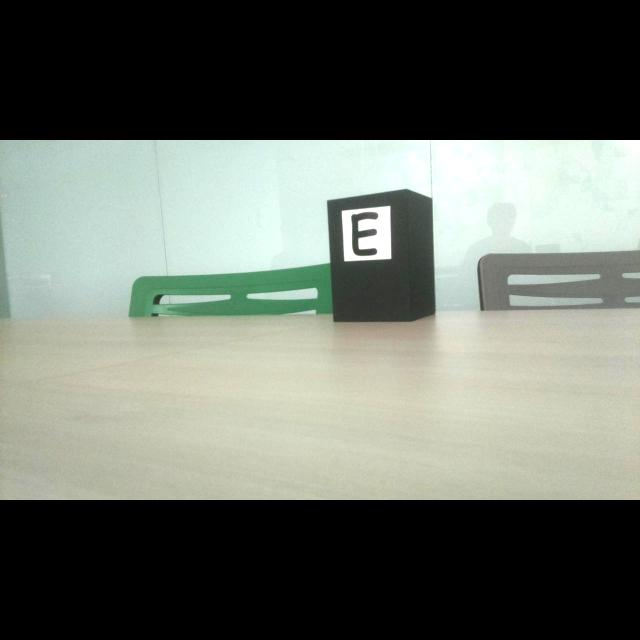E: (351, 212, 378, 255)
